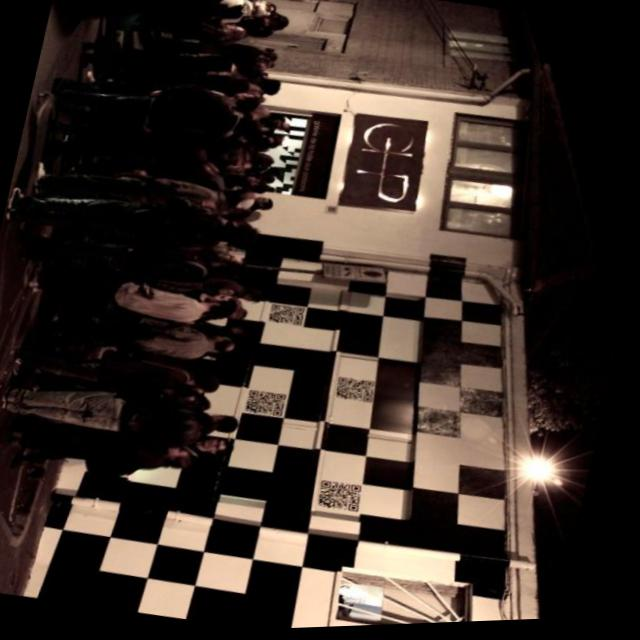qrcode: (322, 483, 369, 516), (250, 391, 291, 420), (339, 380, 380, 407), (271, 305, 309, 330)
